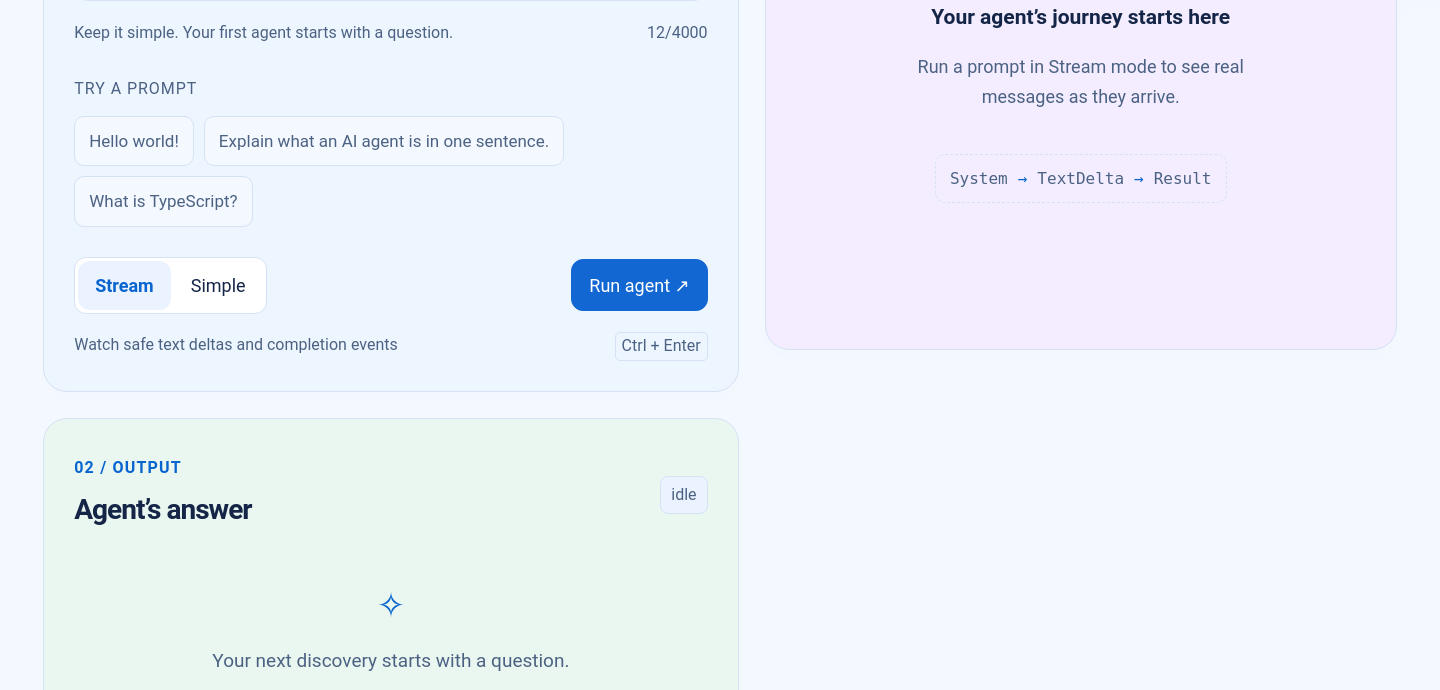
React agent playground › retains a model error after transport completion
(page scrolled)
Click the button "Run agent ↗".
click(640, 285)  # box [571,259,708,311]
(page scrolled)
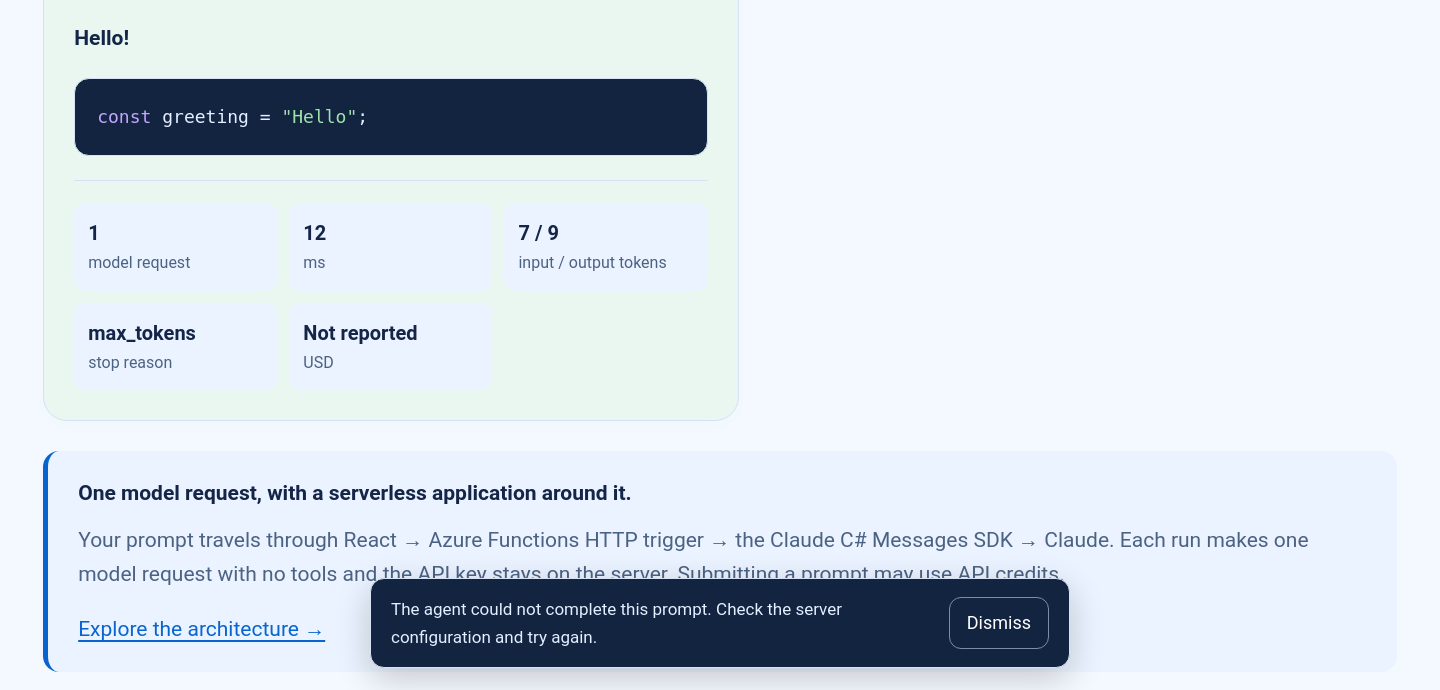
Now the element with class "stats" shows "max_tokens", box [88,321,196,345]
